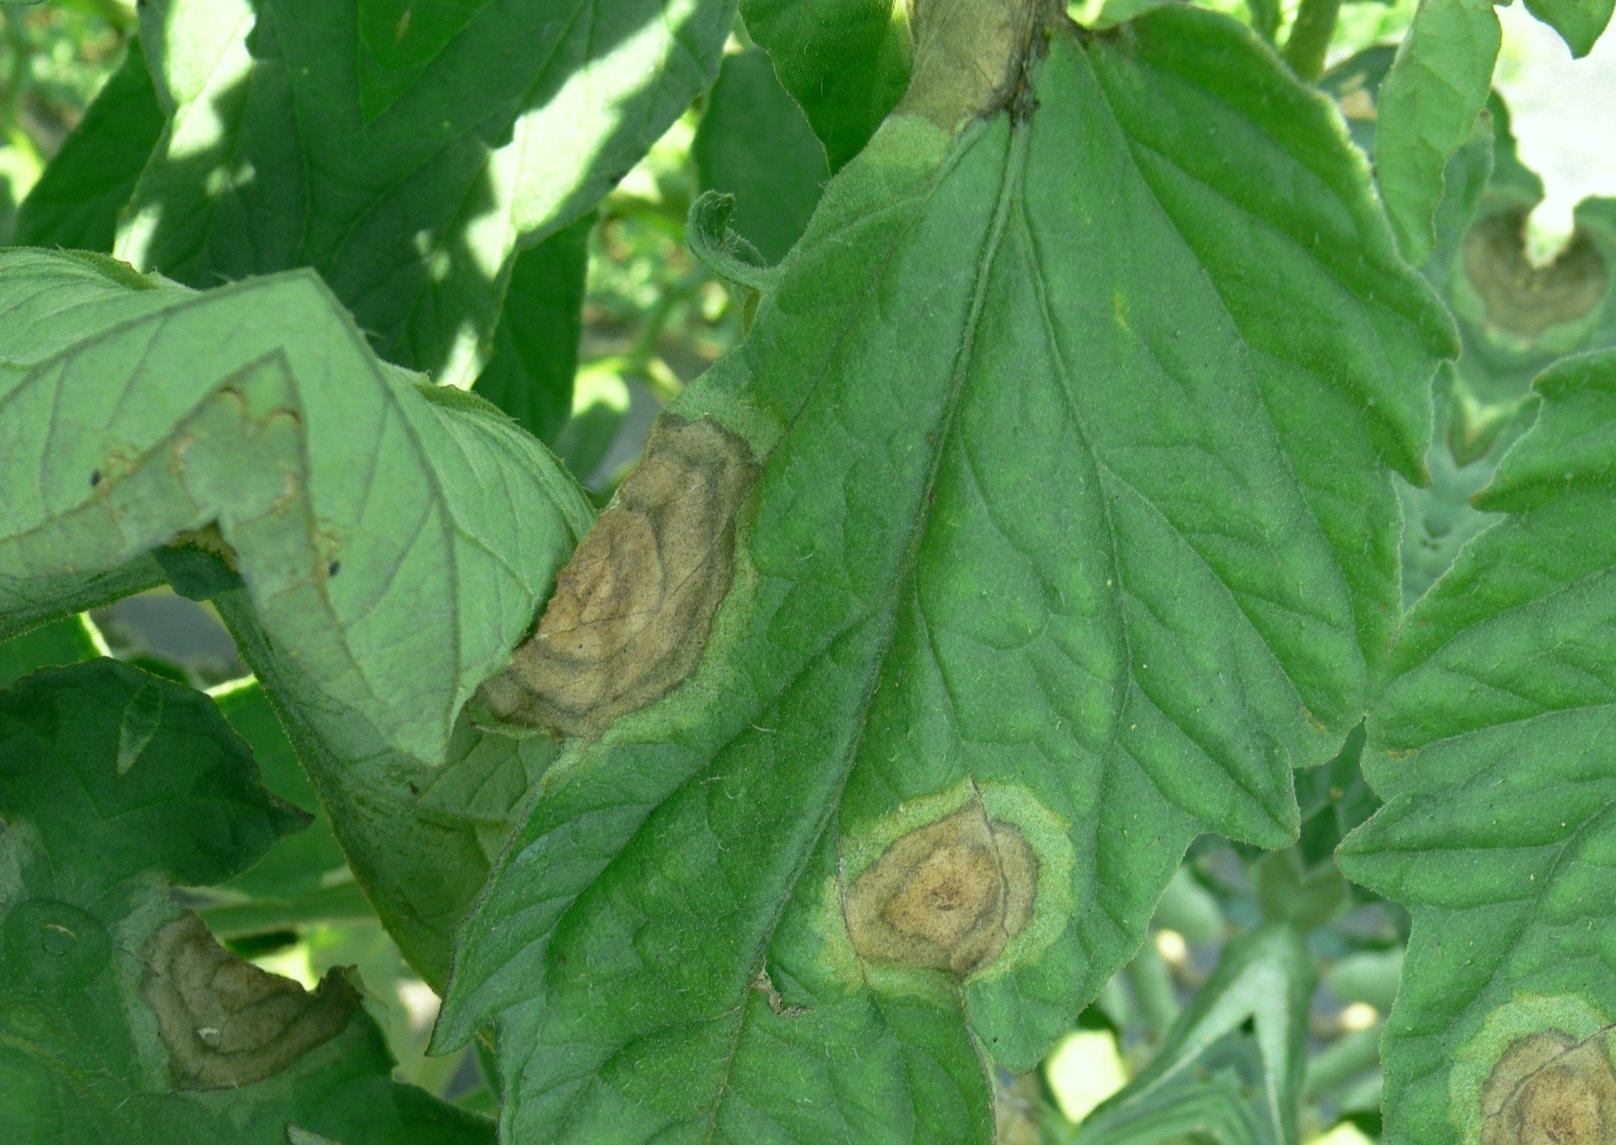Tomato leaf late blight: (271, 0, 1605, 1145)
